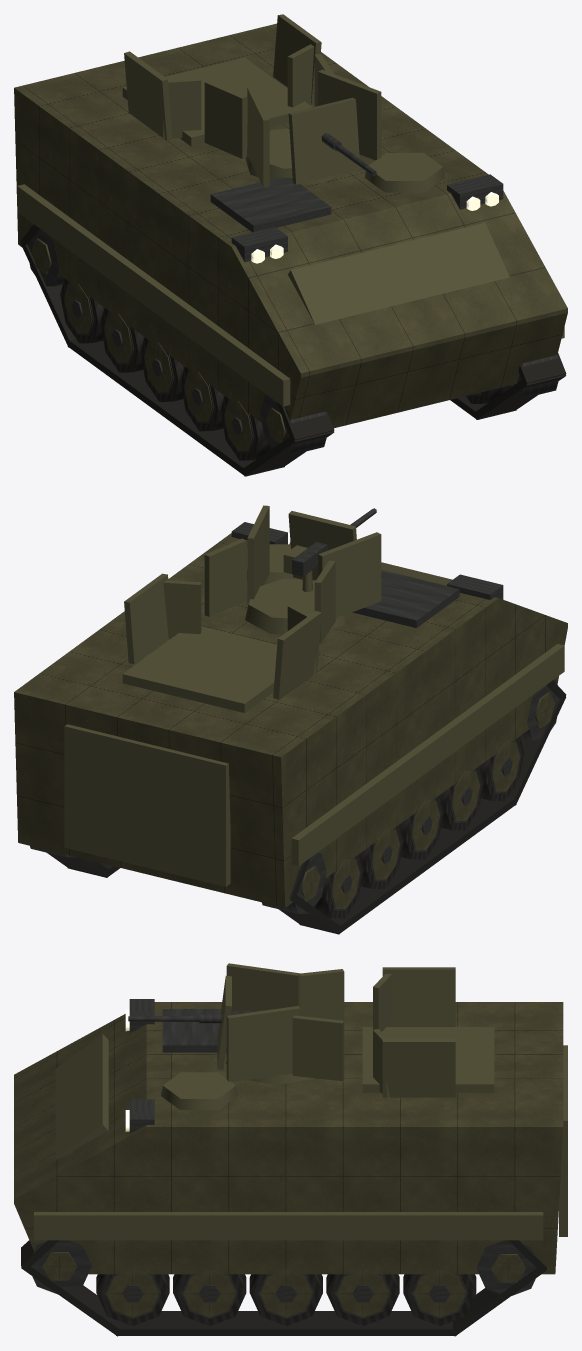
File: m113_acav_lod2.glb
3 renders of one model, top to bottom at view 1: azimuth 30°, elevation 25°; view 2: azimuth 150°, elevation 25°; view 3: azimuth 270°, elevation 25°, orthographic. The views are drawn at different scales.
Visible parts, largest first — view 1: M113_ACAV; view 2: M113_ACAV; view 3: M113_ACAV.
Boxes of the visible parts, x1,y1,x2,y2 form: M113_ACAV: (14, 14, 567, 476); M113_ACAV: (14, 505, 567, 934); M113_ACAV: (14, 963, 567, 1336).
Size of the model in its own units: 2.72 by 2.72 by 4.84.
6 materials, 3 textured.
